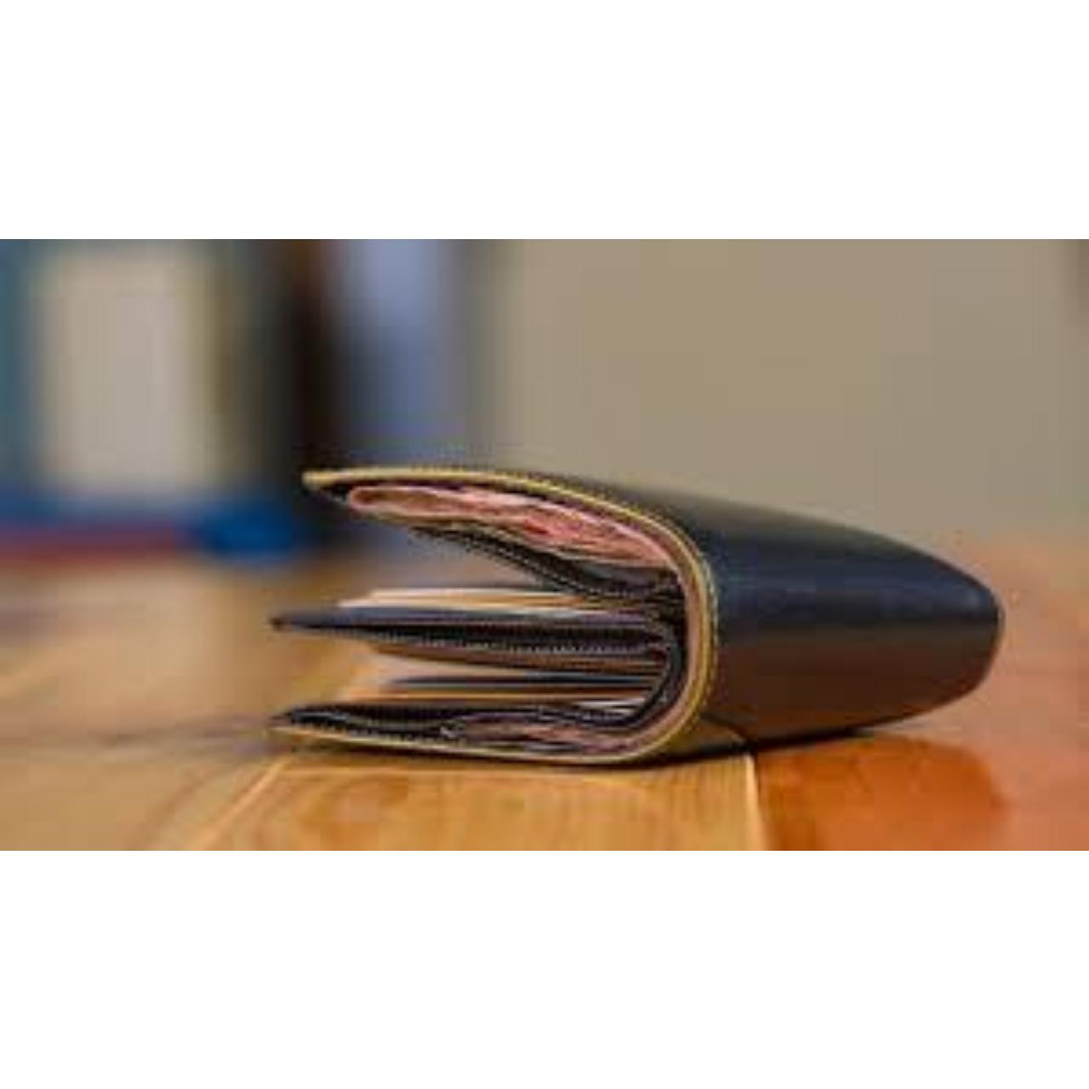wallet: (252, 408, 1016, 801)
